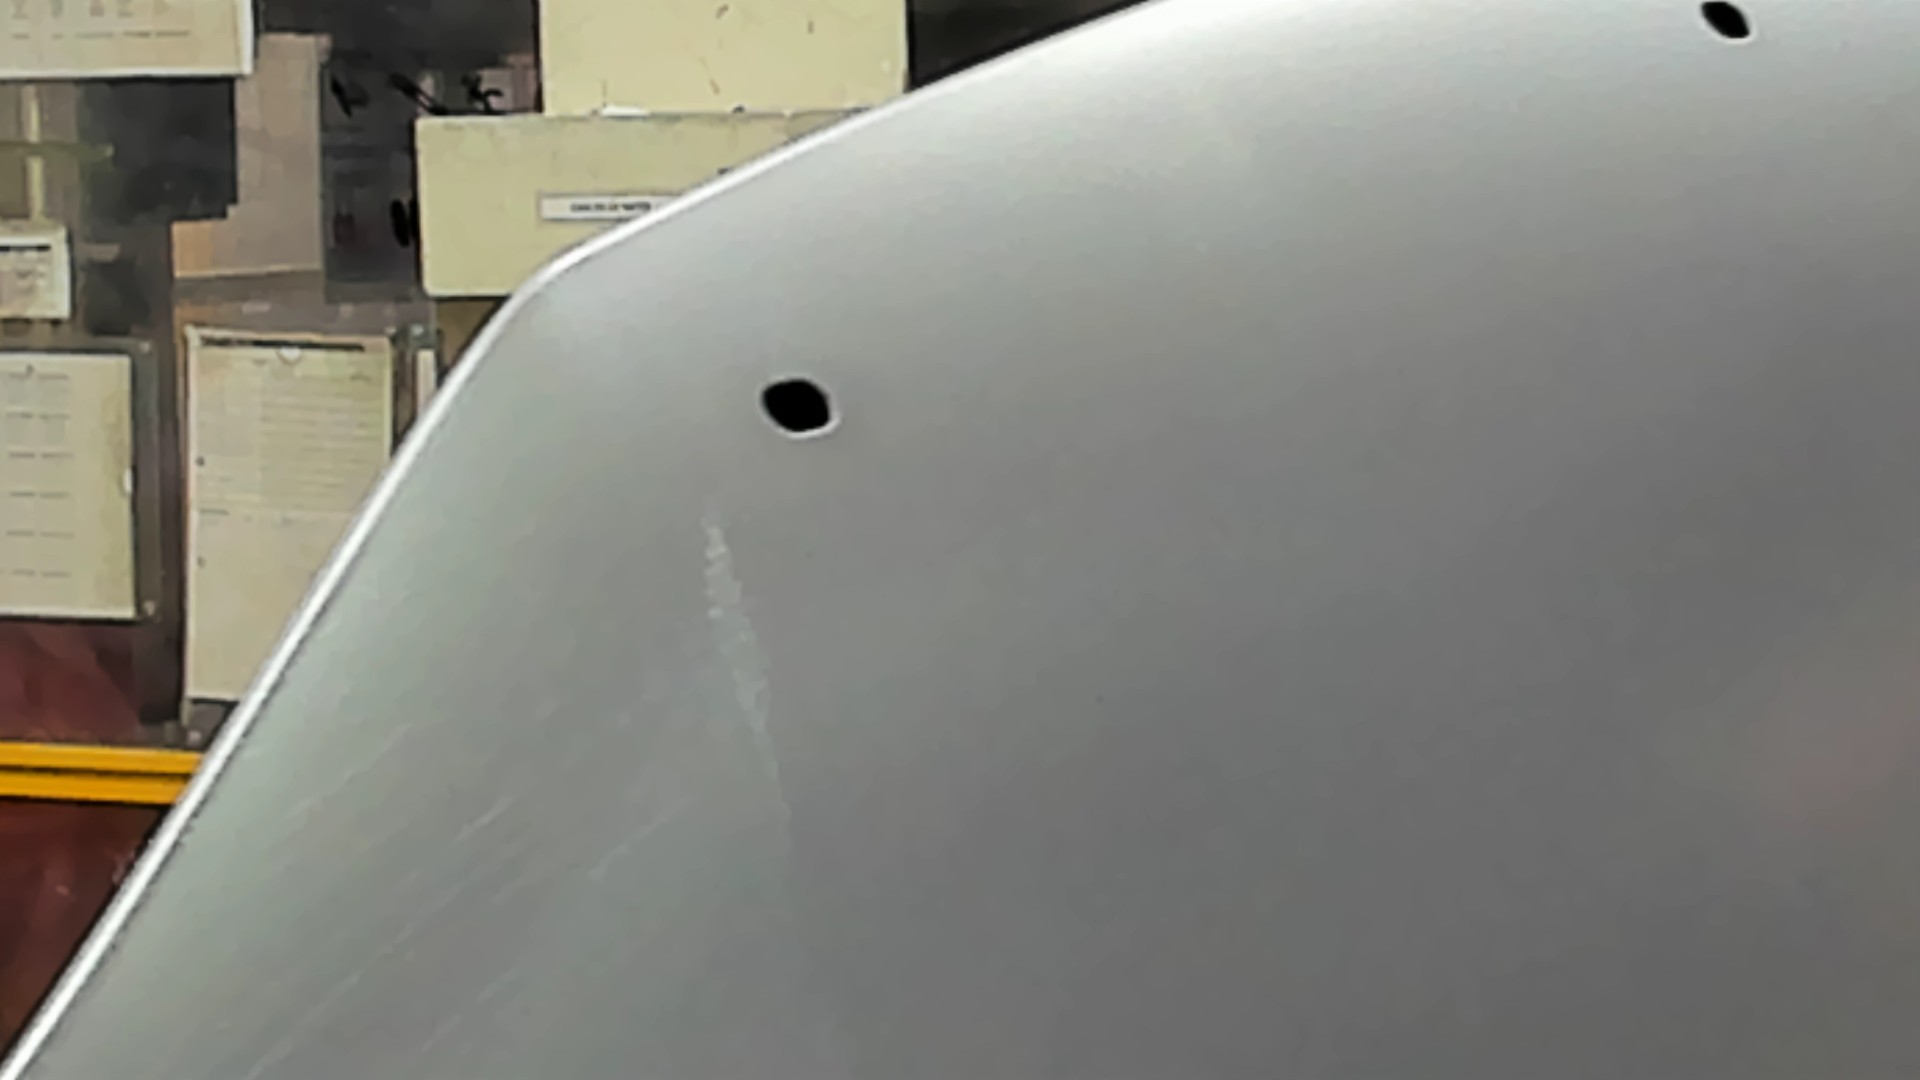amorfo: (756, 373, 843, 438), (1693, 1, 1756, 46)
